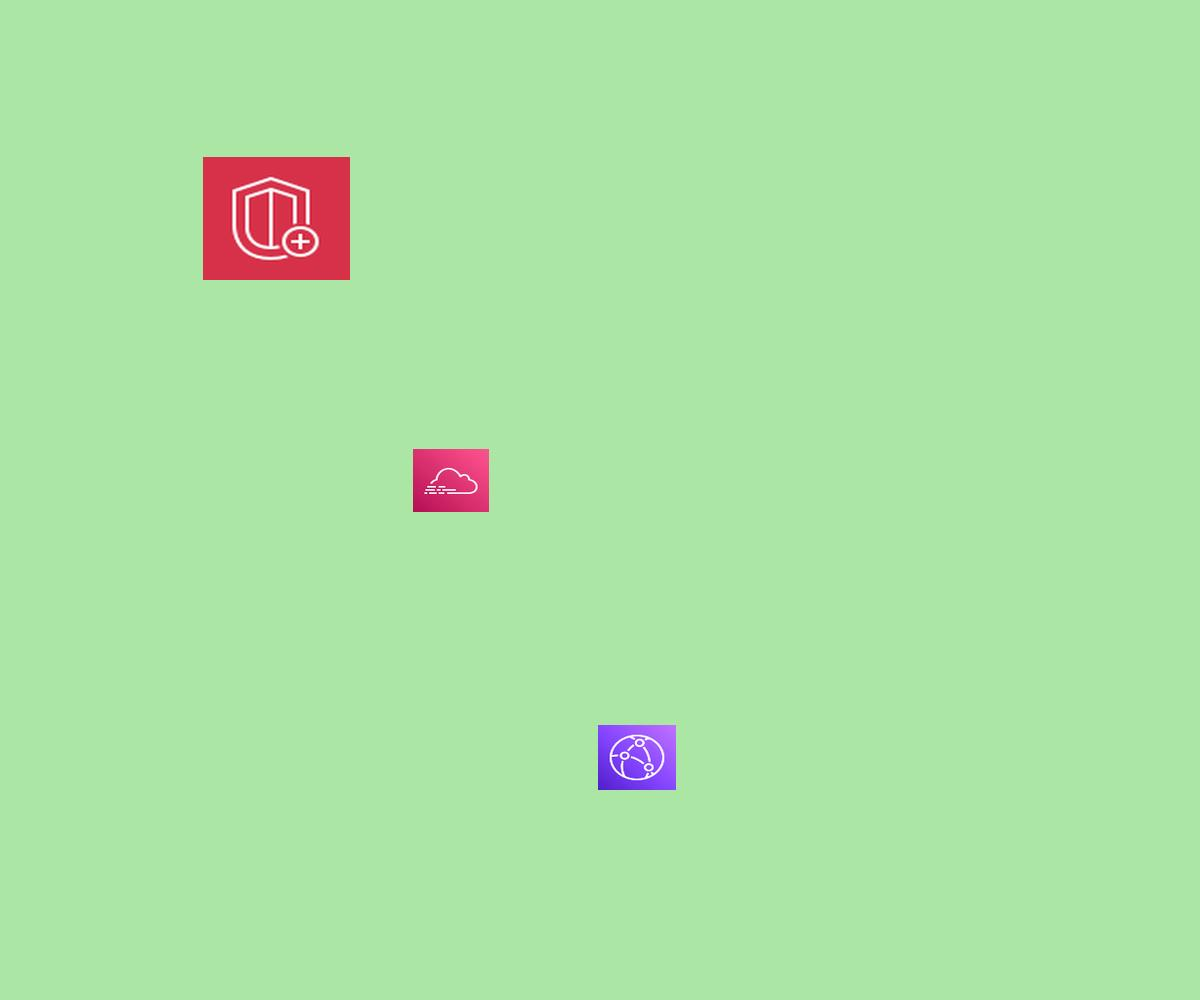AWS-CloudFront: (598, 725, 676, 790)
AWS-CloudTrail: (413, 449, 489, 512)
AWS-Shield: (203, 157, 350, 280)
